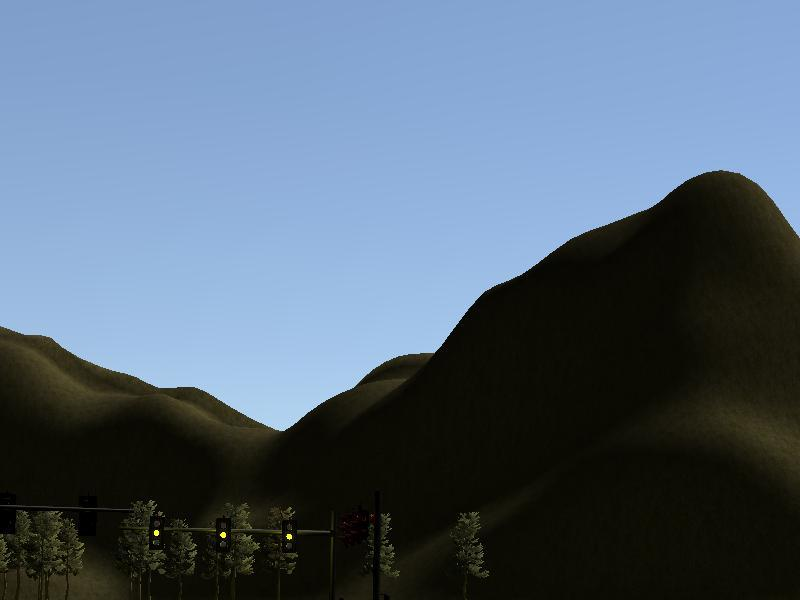Yellow: (215, 518, 231, 550), (149, 515, 162, 550), (281, 519, 295, 551)
